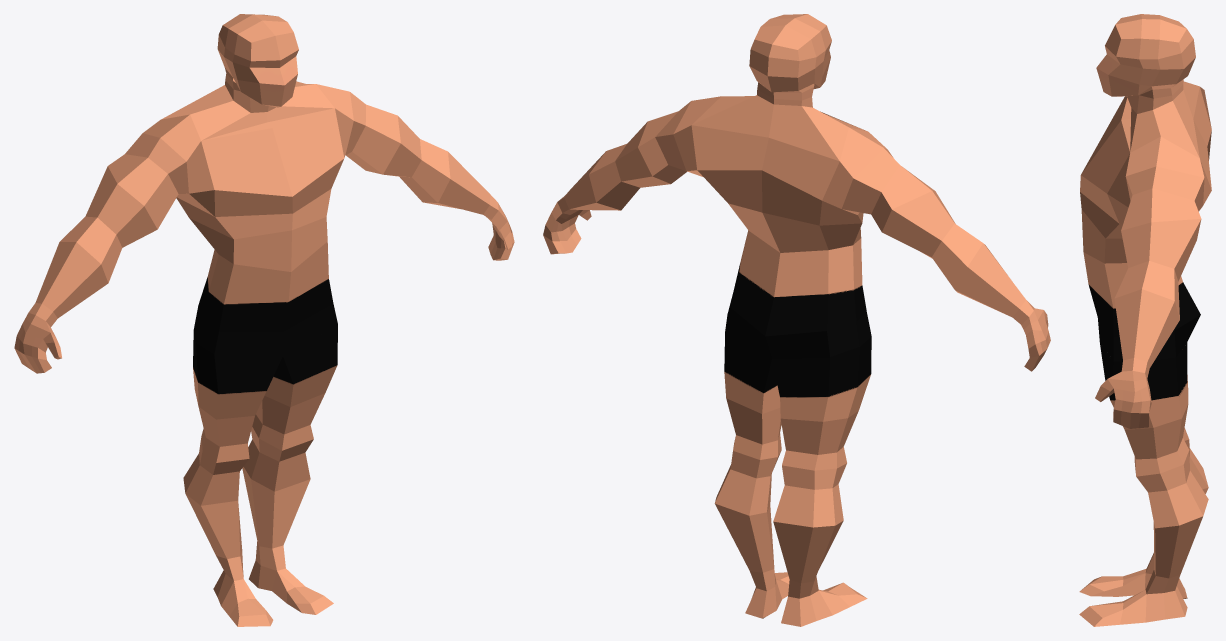
The picture shows the model from 3 angles, left to right: view 1: azimuth 30°, elevation 25°; view 2: azimuth 150°, elevation 25°; view 3: azimuth 270°, elevation 25°; orthographic projection.
Visible parts, largest first — view 1: Me; view 2: Me; view 3: Me.
Boxes of the visible parts, x1,y1,x2,y2 form: Me: (14,14,514,626); Me: (543,14,1050,626); Me: (1079,14,1211,626).
Size of the model in its own units: 1.5 by 1.7 by 0.3499.
